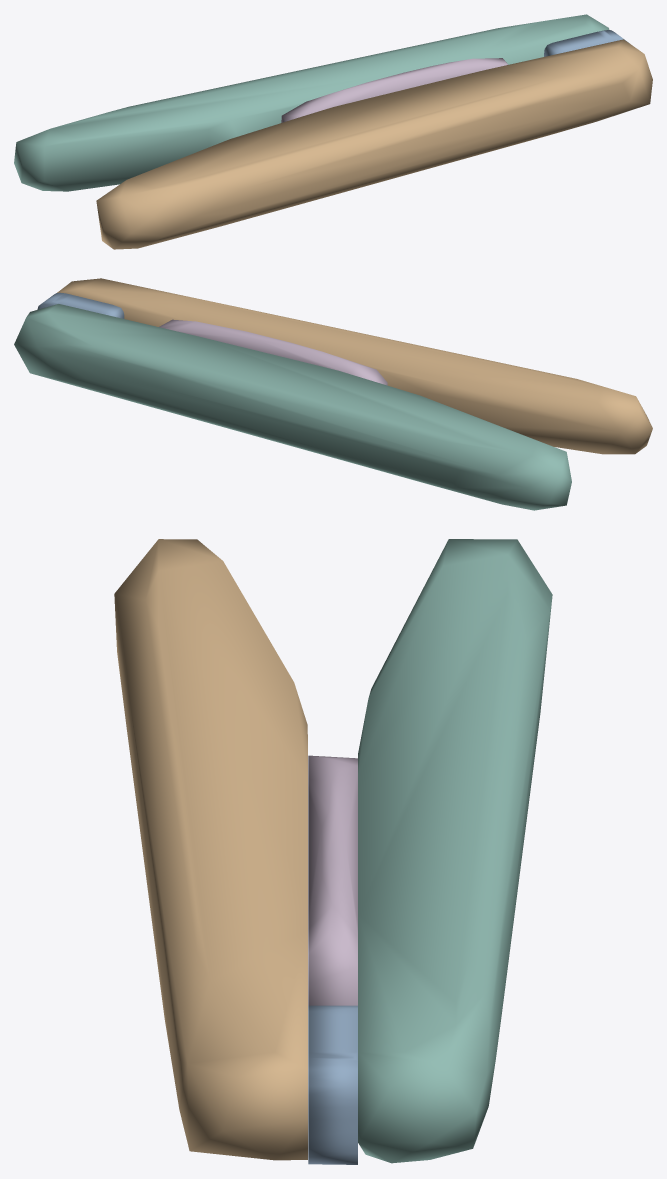
The picture shows the model from 3 angles, top to bottom: view 1: azimuth 30°, elevation 25°; view 2: azimuth 150°, elevation 25°; view 3: azimuth 270°, elevation 25°; orthographic projection. The views are drawn at different scales.
Size of the model in its own units: 1.94 by 0.2383 by 0.6523.
